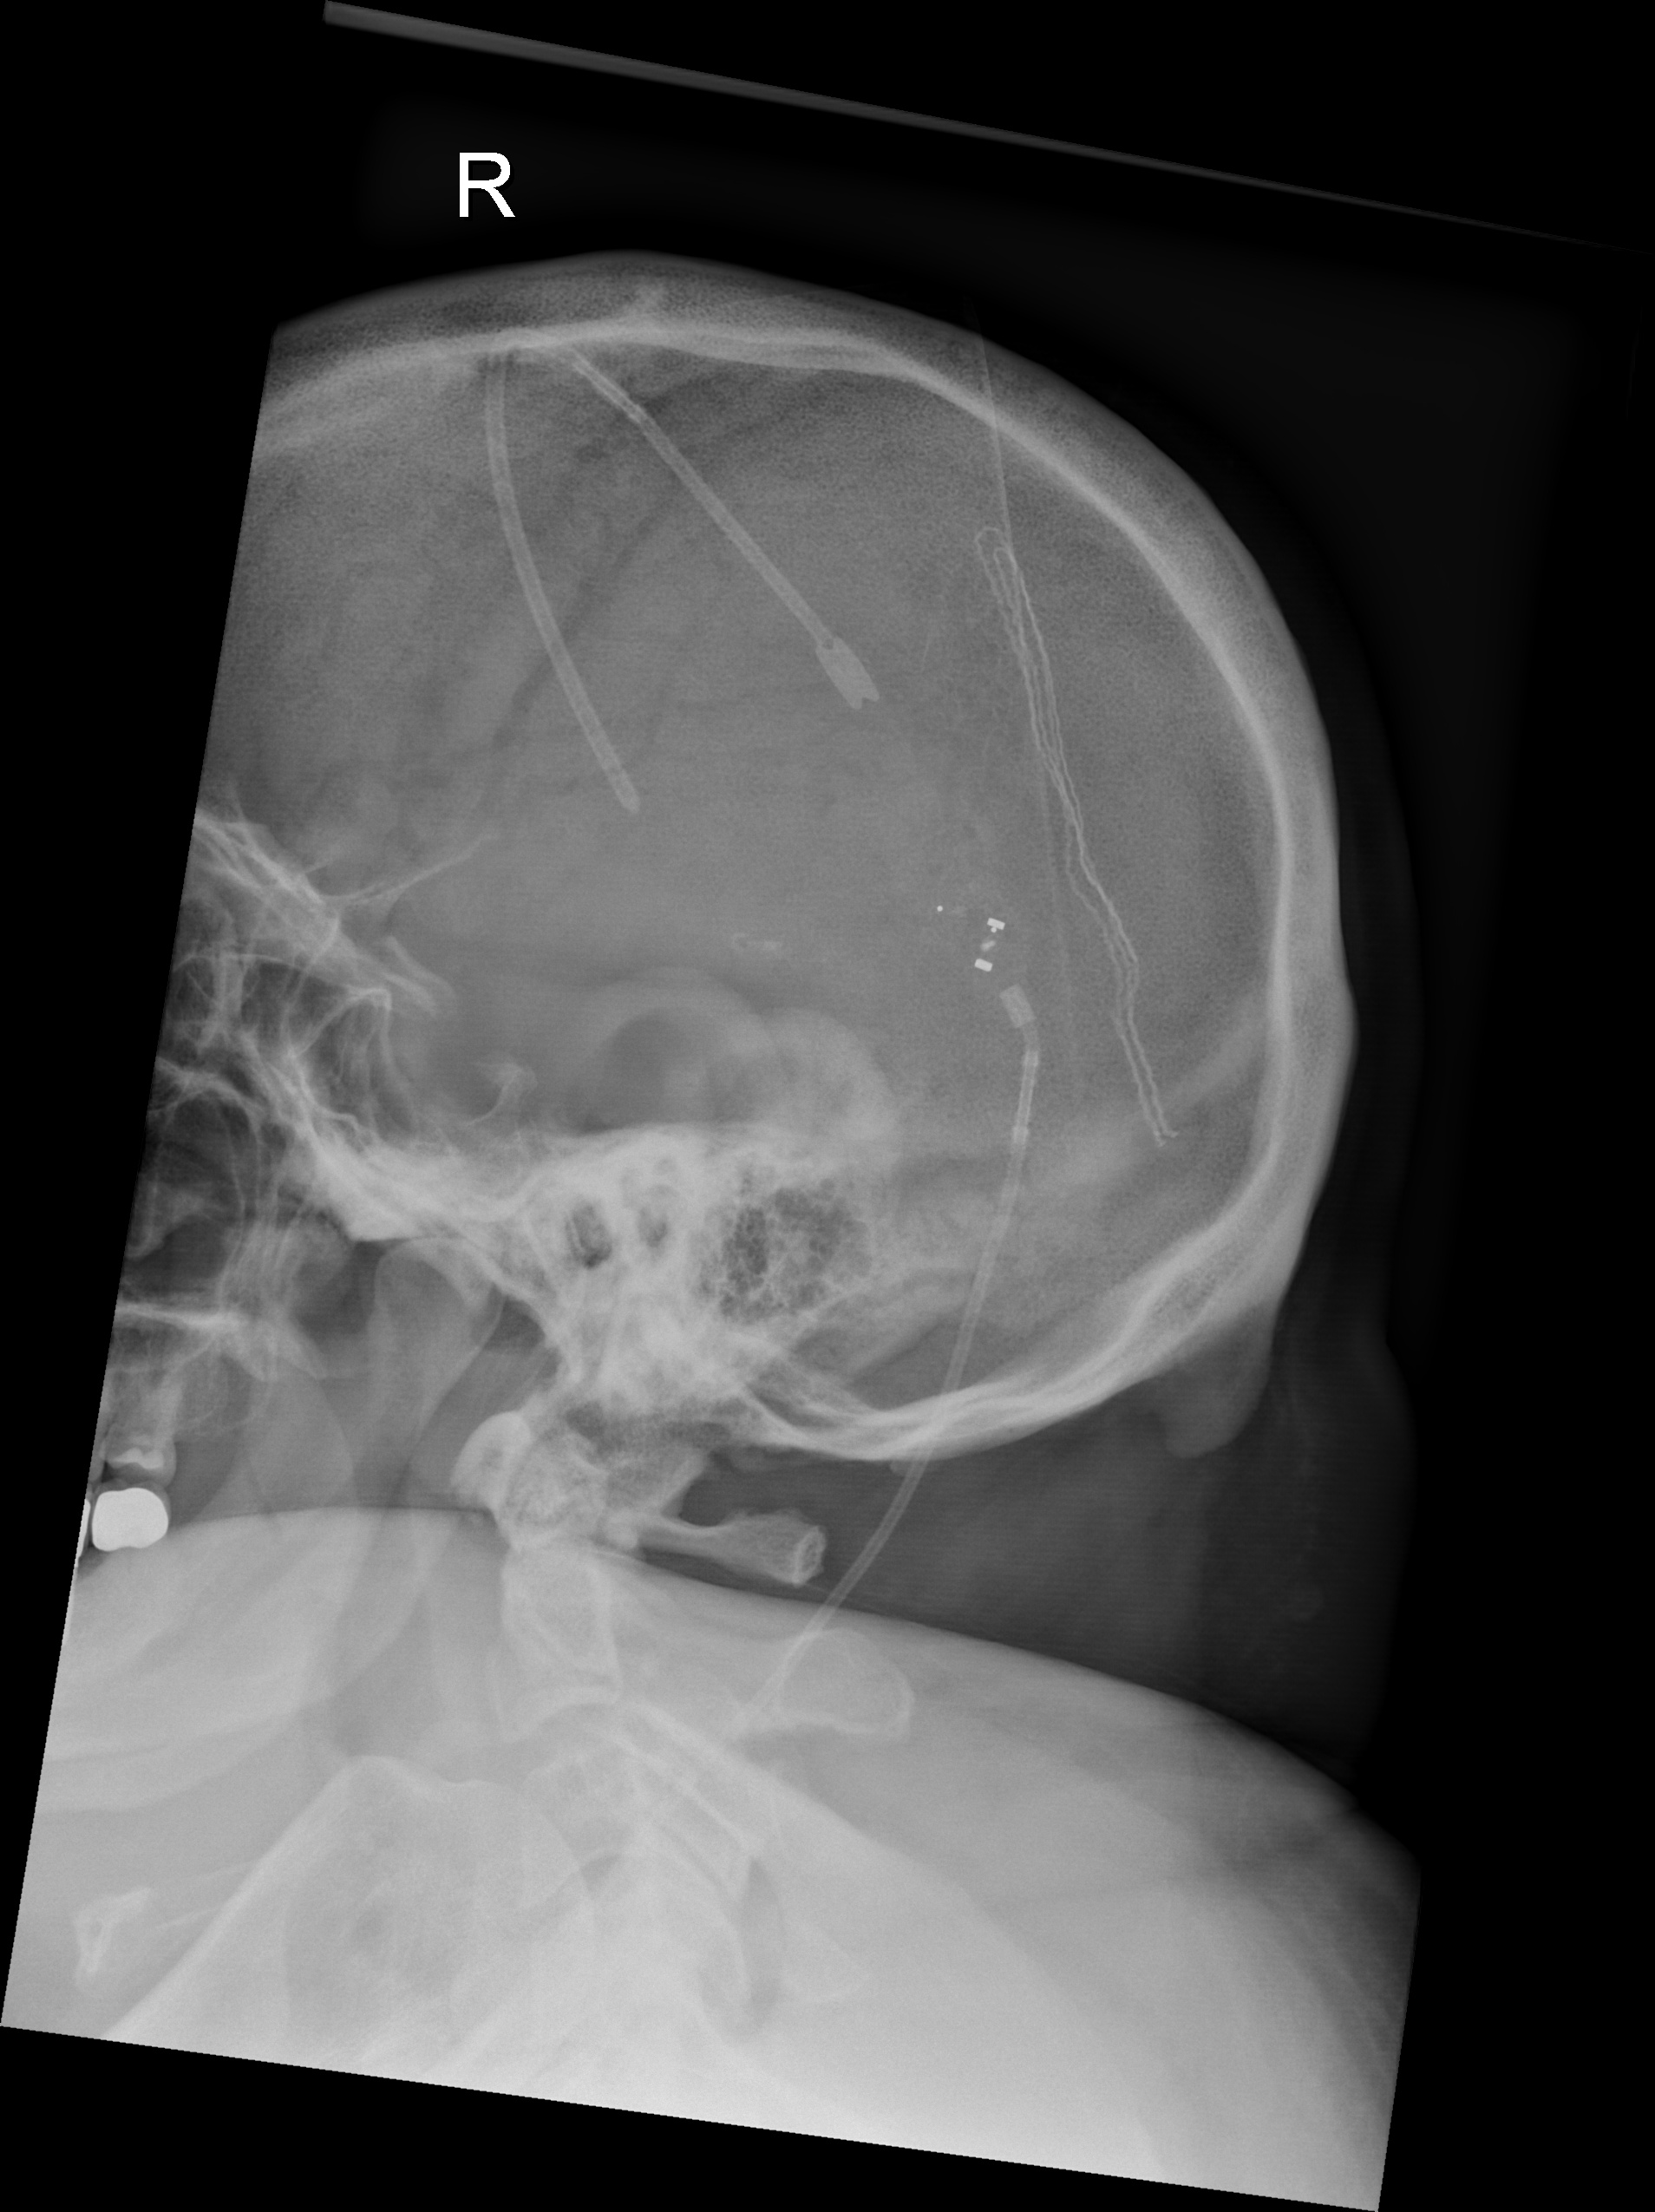Codman Certas: (918, 880, 1048, 1005)
